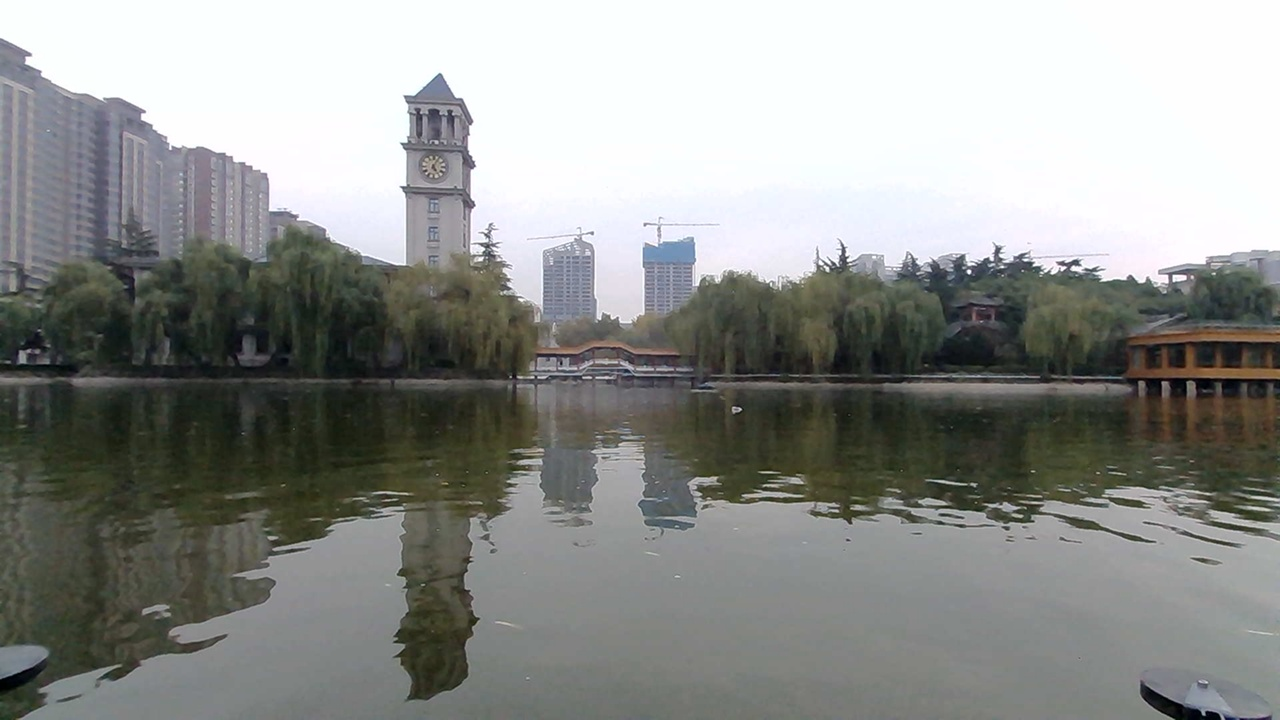bottle: (720, 396, 766, 420)
